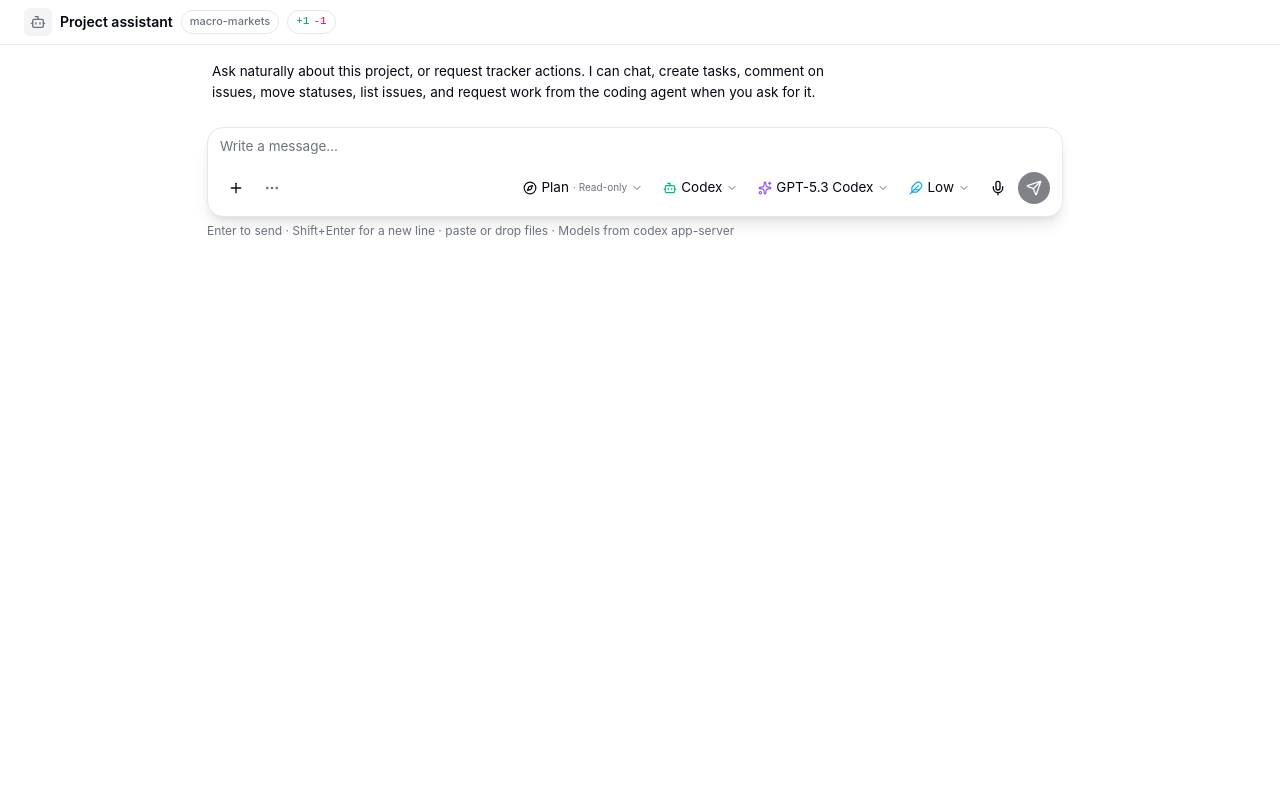
it: ProjectAssistantPanel › auto-approves a pending command when switching to YOLO mid-run
The image size is (1280, 800).
Click the button with test id "execution-mode-menu" at (583, 188), box [516,172,651,204]
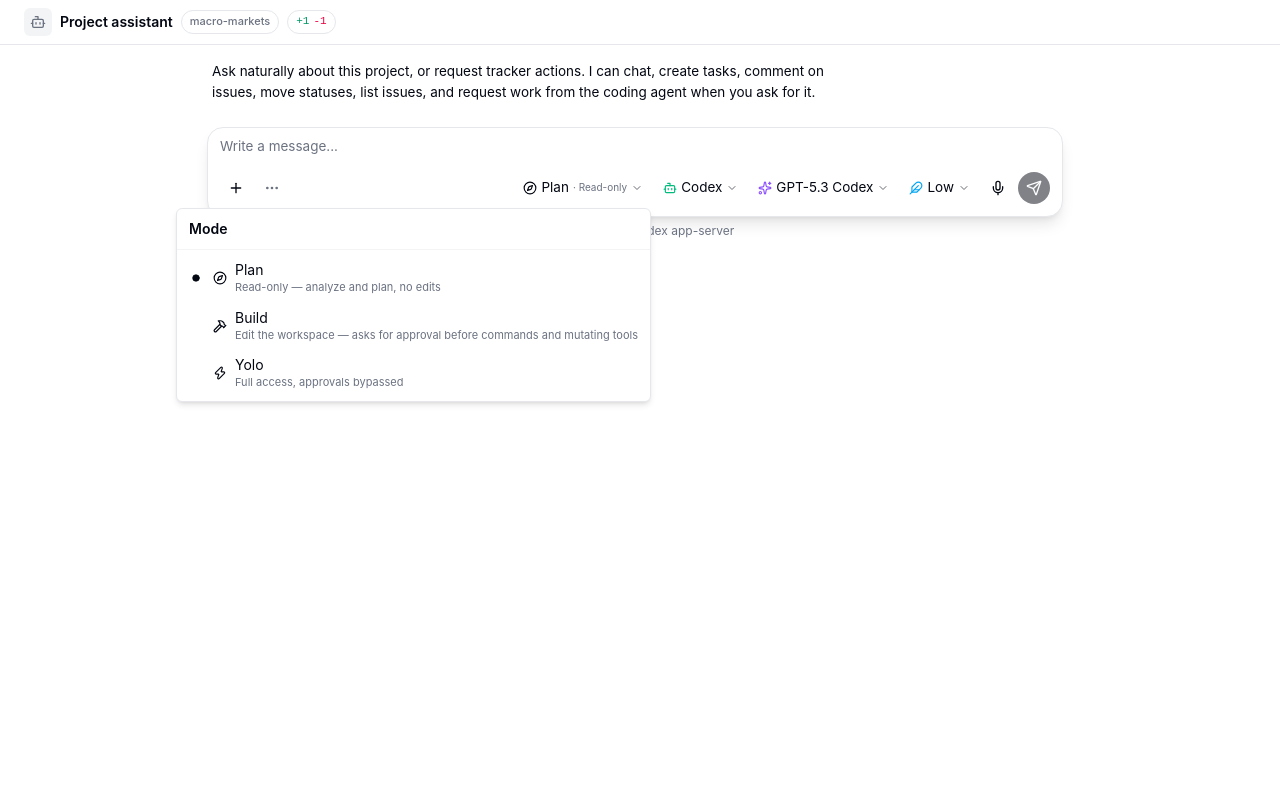
Click the menu item "Build" at (414, 326), box [181,302,646,349]
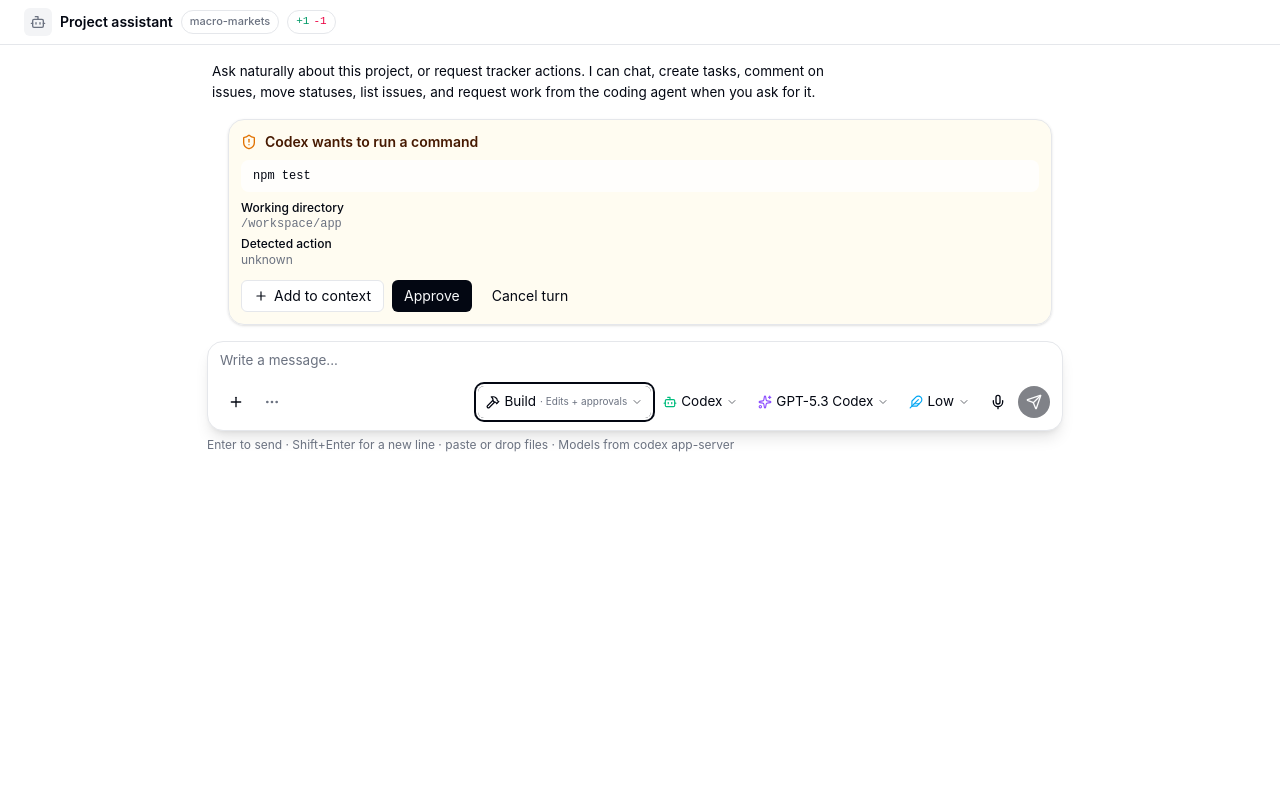
Now the text "Codex wants to run a command" is shown, box [265,132,478,152]
Click the button with test id "execution-mode-menu" at (565, 402), box [478,386,651,418]
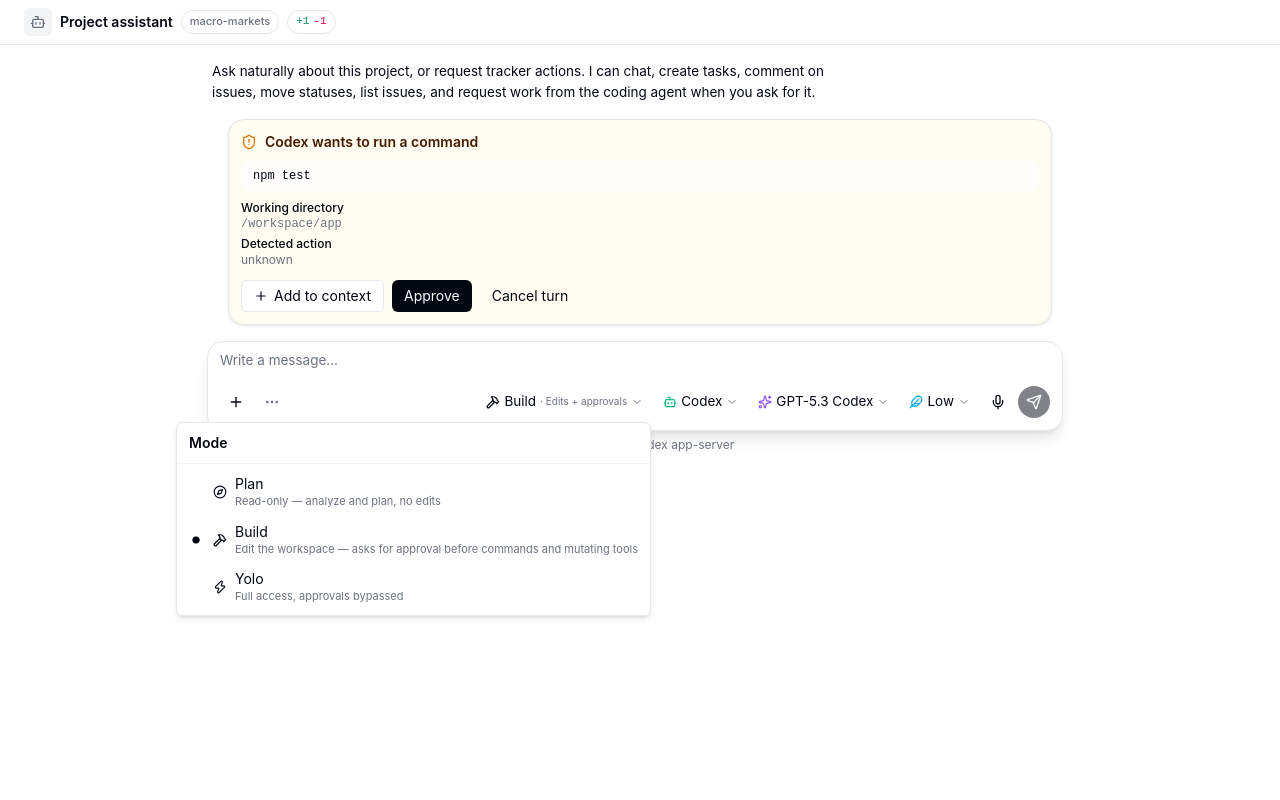
Click the menu item "Yolo Full access, approvals bypassed" at (308, 587), box [213,570,403,603]
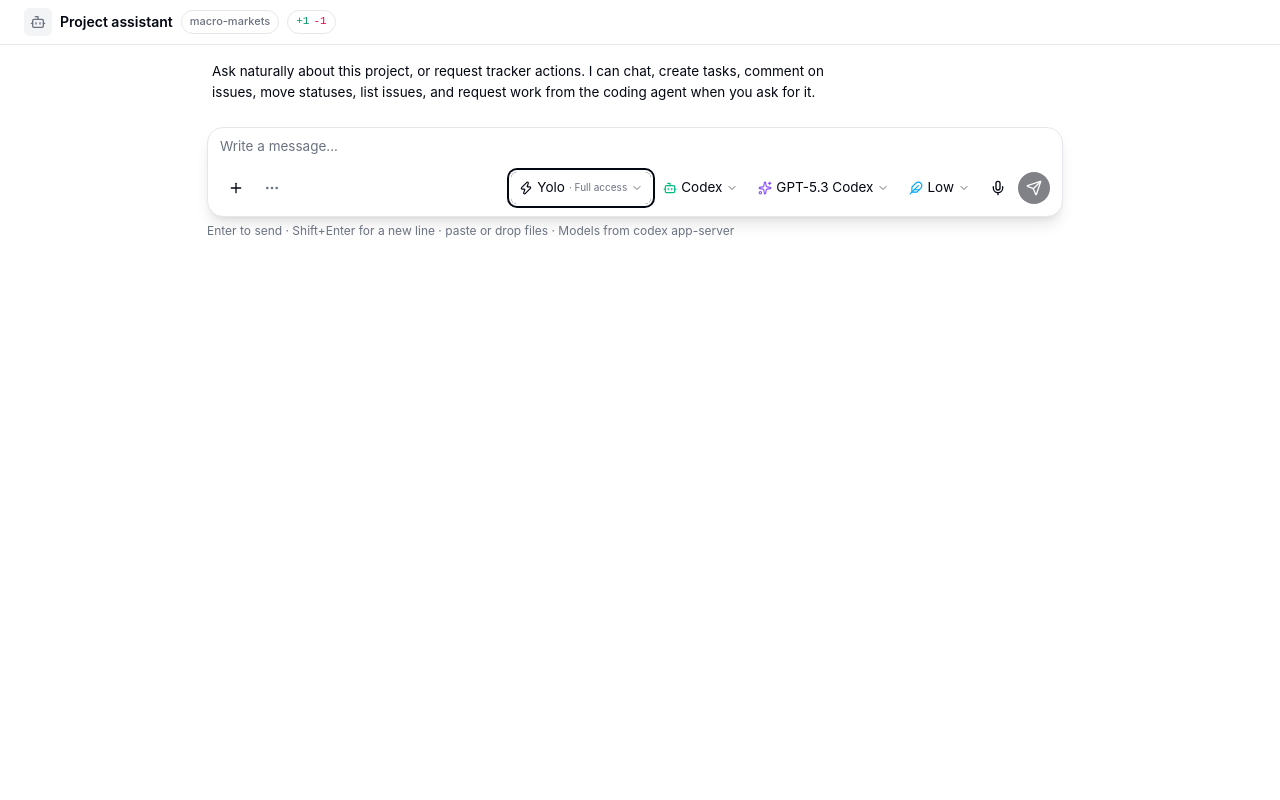
Now the text "Codex wants to run a command" is gone
